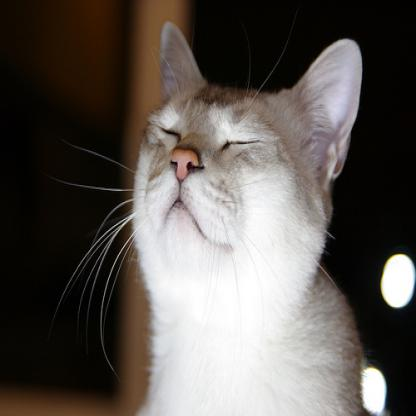cat: (132, 22, 362, 415)
